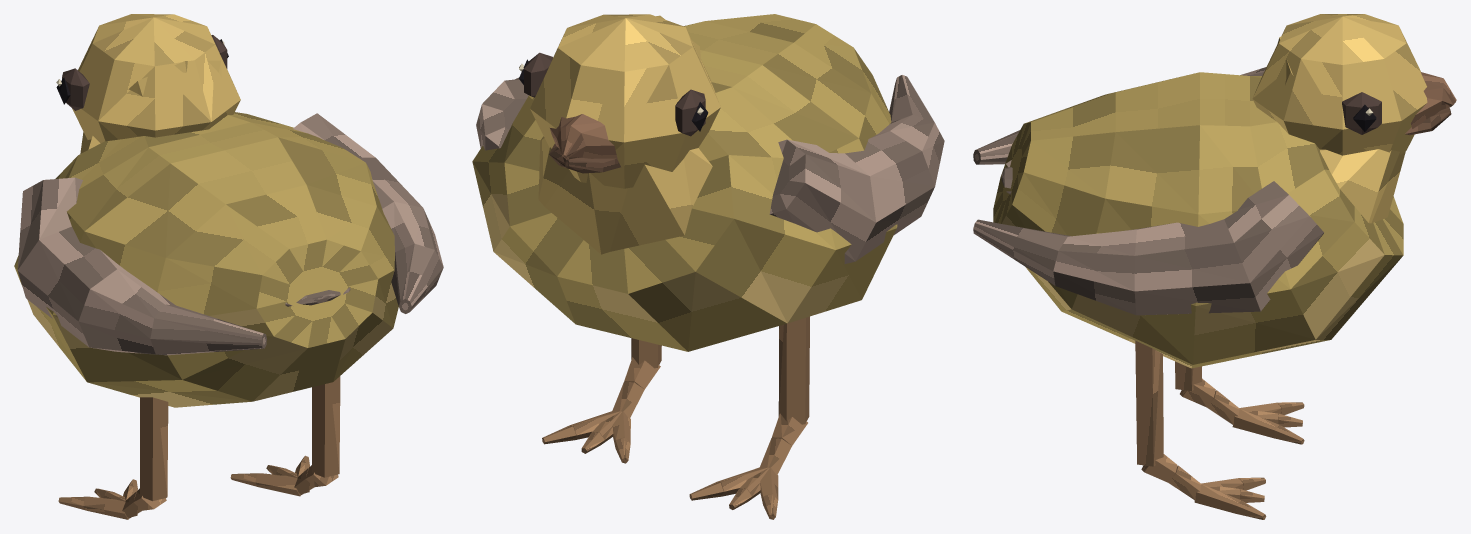
File: mon_guinea_fowl_chick.glb
The picture shows the model from 3 angles, left to right: view 1: azimuth 30°, elevation 25°; view 2: azimuth 150°, elevation 25°; view 3: azimuth 270°, elevation 25°; orthographic projection. The views are drawn at different scales.
Visible parts, largest first — view 1: closed_body; view 2: closed_body; view 3: closed_body.
Part boxes in pixels (box(x1,y1,x2,y2)): closed_body: box(14, 14, 443, 519); closed_body: box(472, 14, 944, 519); closed_body: box(973, 14, 1456, 519).
Size of the model in its own units: 0.0813 by 0.0949 by 0.0927.
1 material, 1 textured.
